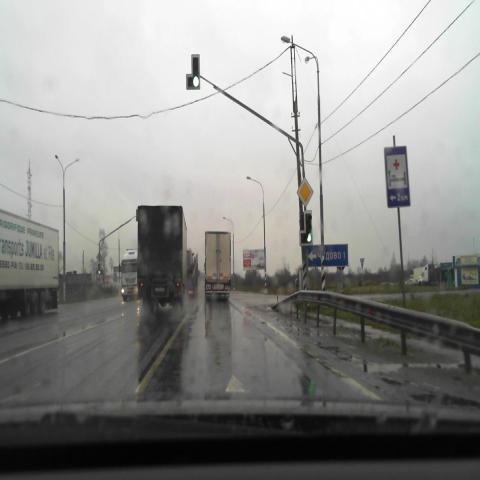7_2: (384, 147, 410, 208)
